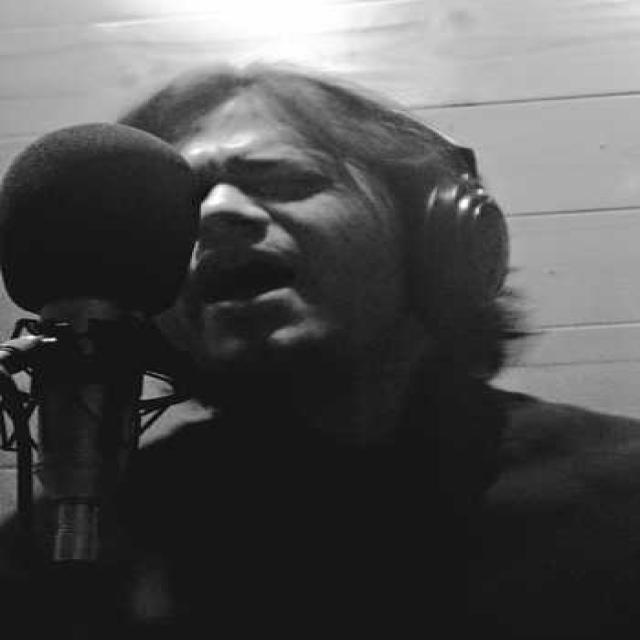microphone: (0, 124, 208, 567)
